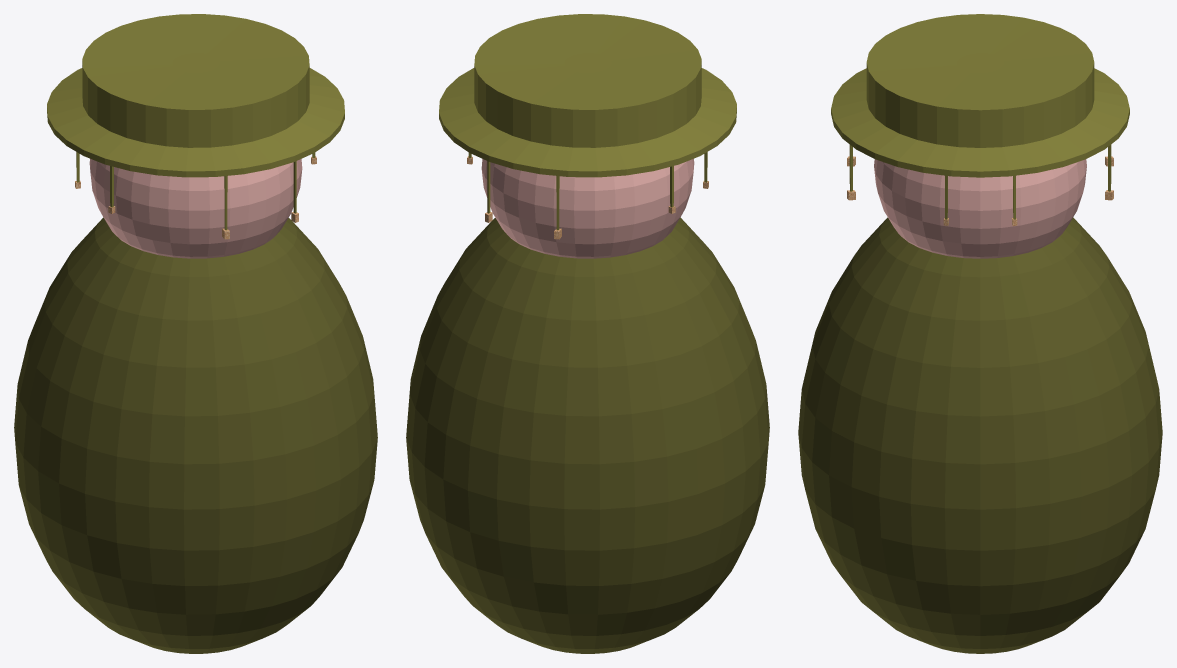
The model's file is ManTexture.fbx.
The picture shows the model from 3 angles, left to right: view 1: azimuth 30°, elevation 25°; view 2: azimuth 150°, elevation 25°; view 3: azimuth 270°, elevation 25°; orthographic projection.
Parts seen in each view (by area): view 1: Body, Hat, Head; view 2: Body, Hat, Head; view 3: Body, Hat, Head.
Part boxes in pixels (bbox=[...]): Body: bbox=[14, 217, 377, 653]; Hat: bbox=[47, 14, 344, 231]; Head: bbox=[89, 158, 302, 258]; Body: bbox=[406, 217, 769, 653]; Hat: bbox=[439, 14, 736, 231]; Head: bbox=[481, 158, 694, 258]; Body: bbox=[798, 217, 1162, 653]; Hat: bbox=[831, 14, 1129, 220]; Head: bbox=[874, 159, 1086, 258].
Bounding box in the file's own units: 200 × 349 × 200.
